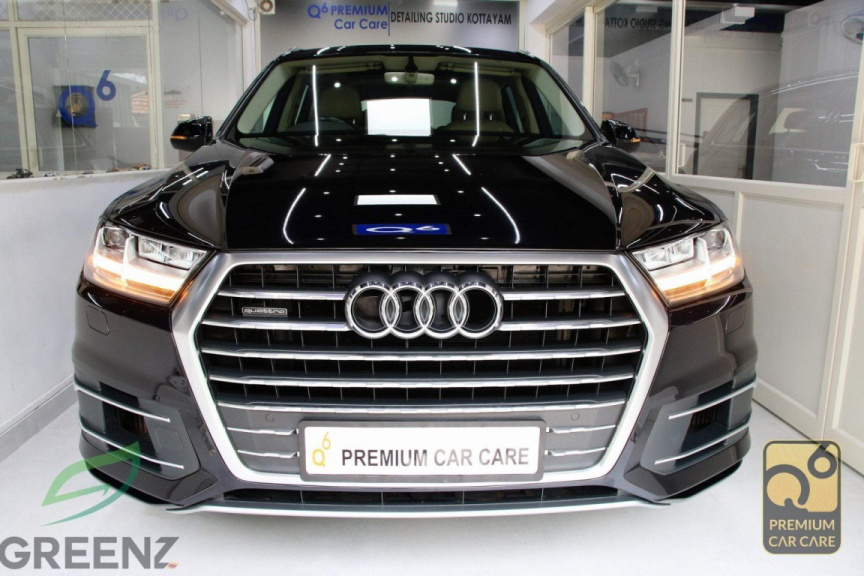audi: (329, 278, 518, 347)
